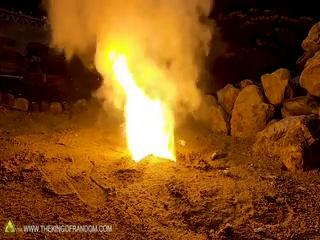Fire: (113, 55, 181, 159)
